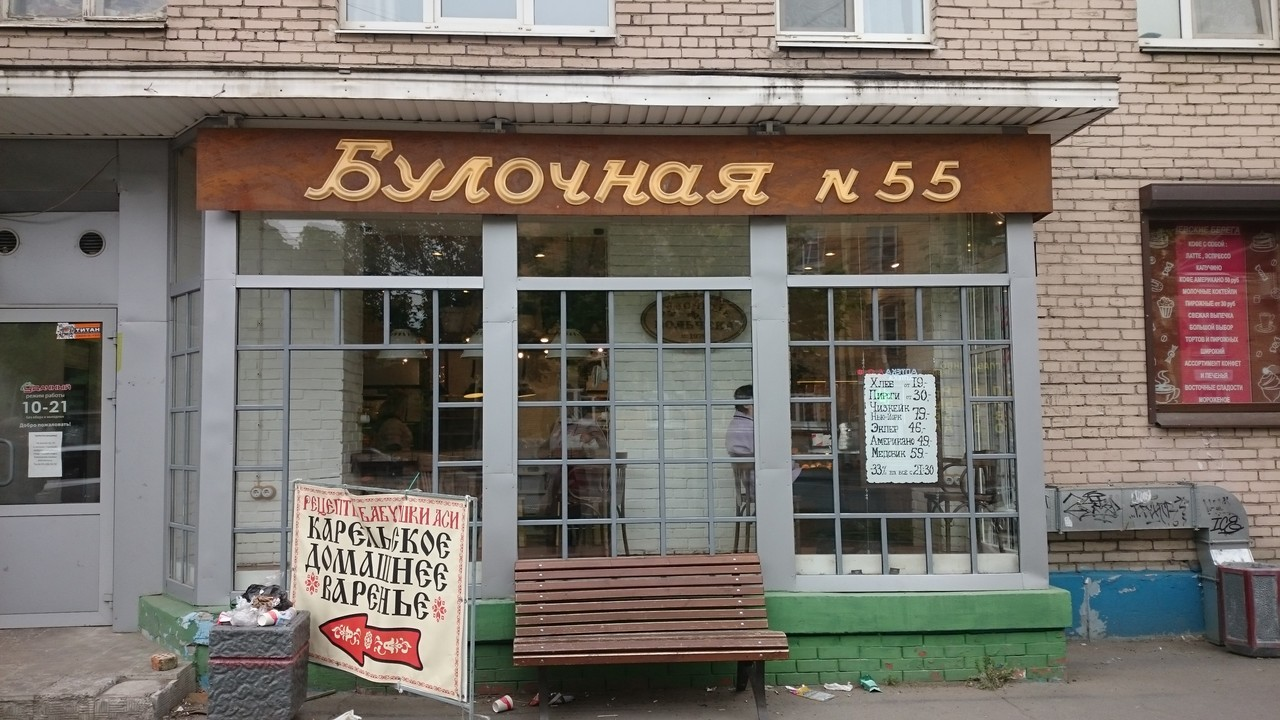door: (1, 309, 117, 631)
signboard: (197, 125, 1054, 214)
window: (235, 219, 1036, 587)
